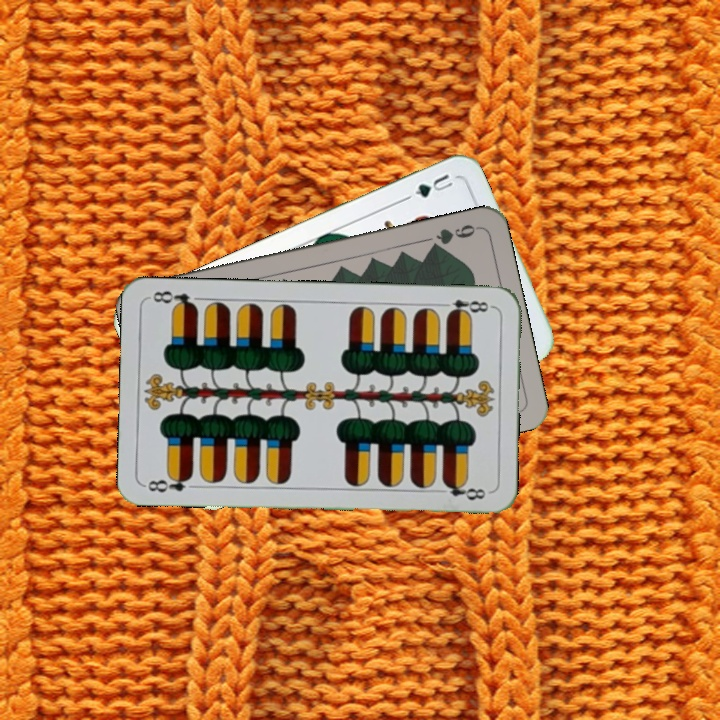E8: (436, 295, 495, 319), (142, 471, 195, 496)
G9: (425, 220, 481, 253)
GU: (410, 169, 456, 201)
